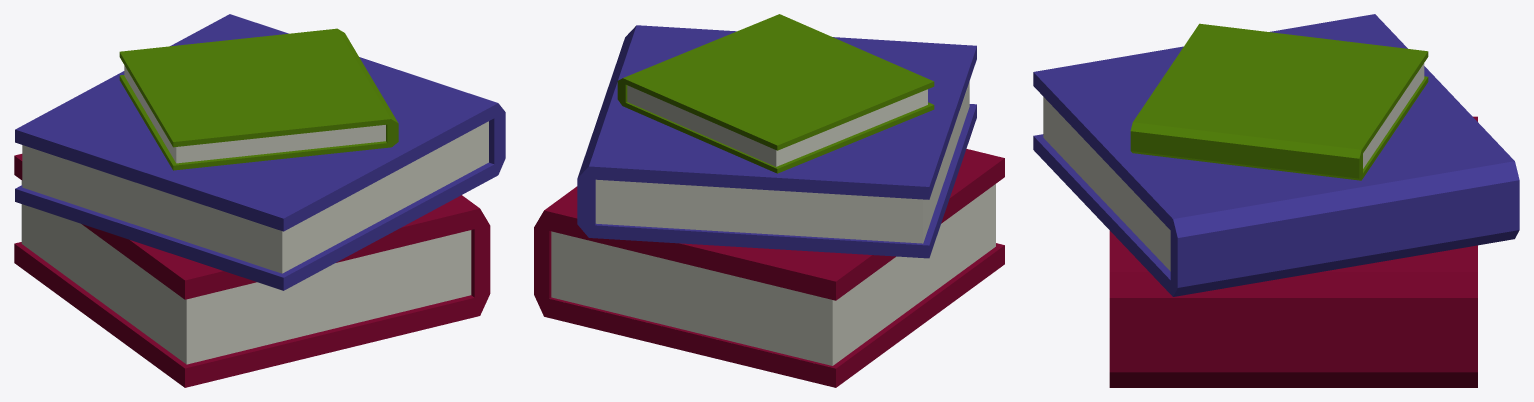
File: SM_book pile 03.fbx
The picture shows the model from 3 angles, left to right: view 1: azimuth 30°, elevation 25°; view 2: azimuth 150°, elevation 25°; view 3: azimuth 270°, elevation 25°; orthographic projection. The views are drawn at different scales.
Visible parts, largest first — view 1: pCube24; view 2: pCube24; view 3: pCube24.
Part boxes in pixels (<box>): pCube24: <box>14,14,505,387</box>; pCube24: <box>534,14,1004,387</box>; pCube24: <box>1033,14,1519,387</box>.
Bounding box in the file's own units: 2.7 × 1.35 × 2.64.
